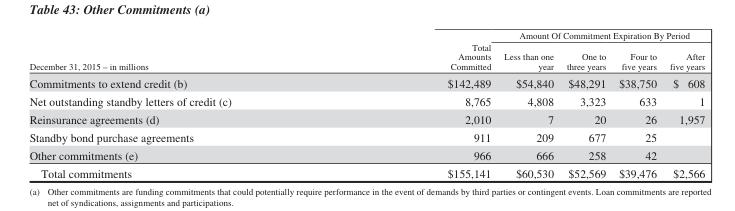table: (28, 29, 704, 179)
table column: (28, 29, 338, 179), (338, 29, 496, 179), (496, 29, 559, 179), (559, 29, 611, 179), (611, 29, 662, 179), (662, 29, 704, 179)
table column header: (28, 29, 704, 73)
table row: (28, 45, 704, 73), (28, 145, 704, 164), (28, 73, 704, 91), (28, 91, 704, 109), (28, 109, 704, 127), (28, 127, 704, 145), (28, 29, 704, 45), (28, 164, 704, 179)
table spanning cell: (28, 29, 338, 73), (338, 29, 496, 73), (496, 29, 704, 45)
